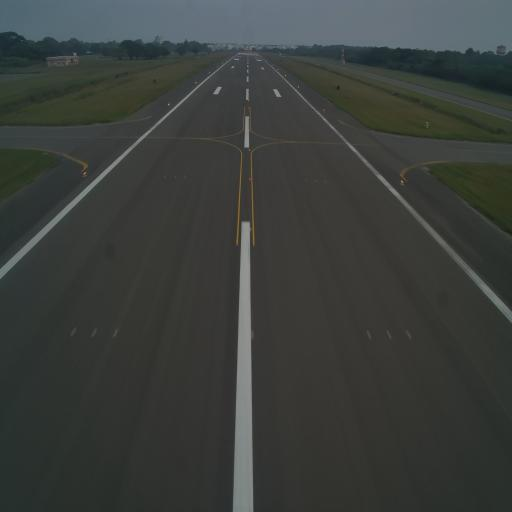off: (89, 323, 100, 341), (384, 326, 394, 344), (404, 326, 414, 344), (111, 324, 121, 341), (364, 326, 374, 342), (69, 325, 78, 341), (323, 176, 328, 187), (313, 176, 318, 186), (304, 176, 308, 186), (173, 174, 177, 182), (183, 174, 187, 182), (163, 173, 167, 180)
on: (249, 326, 255, 342), (82, 168, 89, 180), (399, 178, 405, 188), (248, 223, 252, 235), (246, 146, 251, 154), (248, 176, 252, 184)
